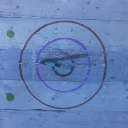Axe Tip: (44, 59, 55, 62)
